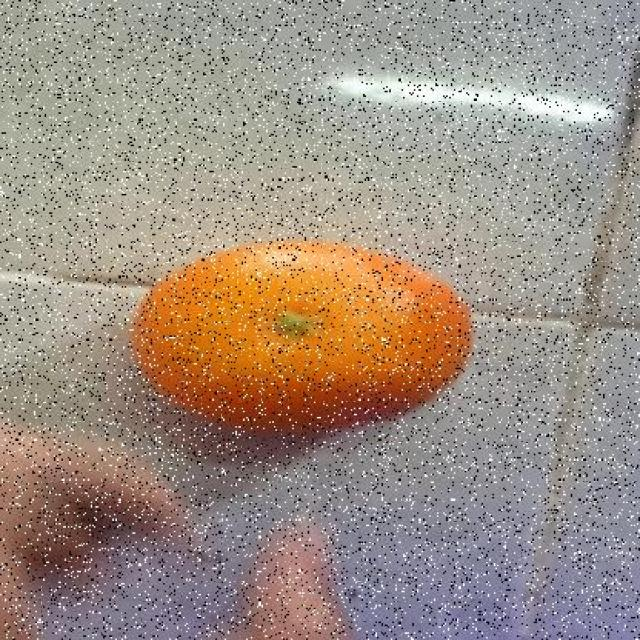Orange: (126, 237, 474, 440)
